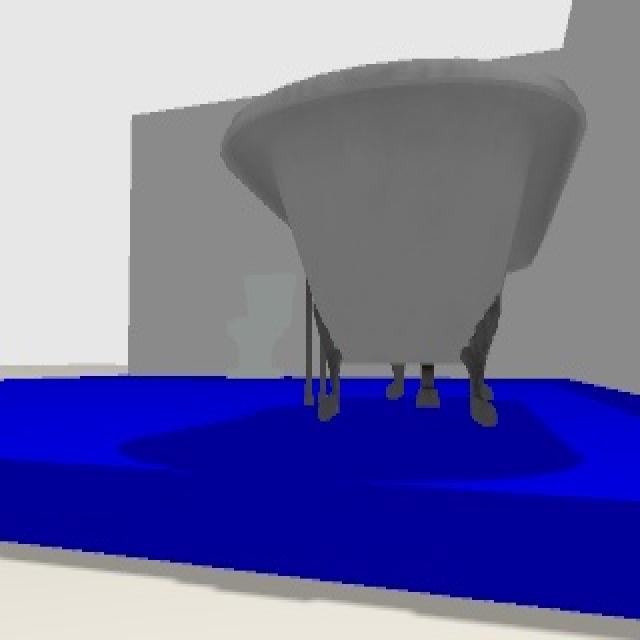bathtub: (218, 56, 590, 429)
